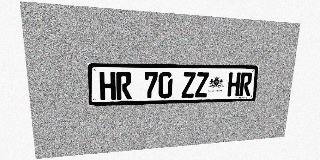0: (158, 72, 173, 99)
7: (143, 72, 158, 99)
H: (99, 72, 116, 100), (227, 72, 241, 97)
R: (116, 72, 132, 100), (239, 72, 253, 96)
Z: (182, 72, 196, 98), (195, 72, 209, 97)
